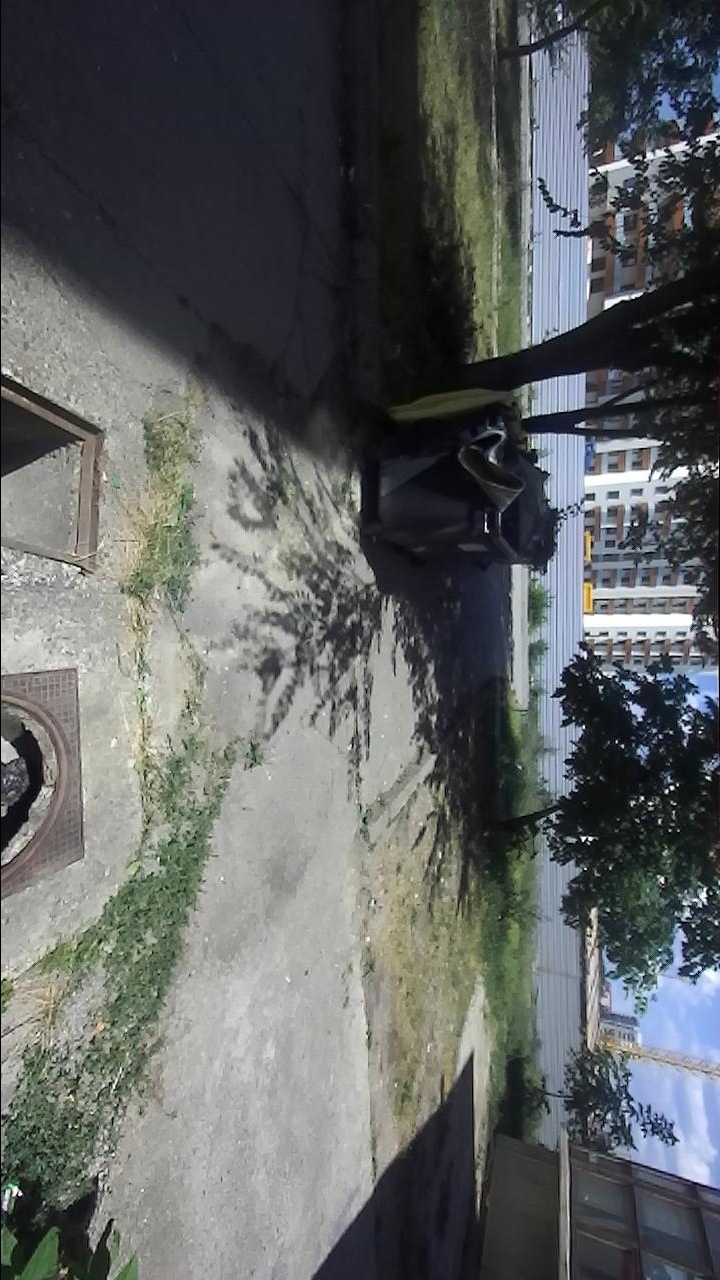drain: (1, 375, 108, 574), (1, 685, 69, 893)
